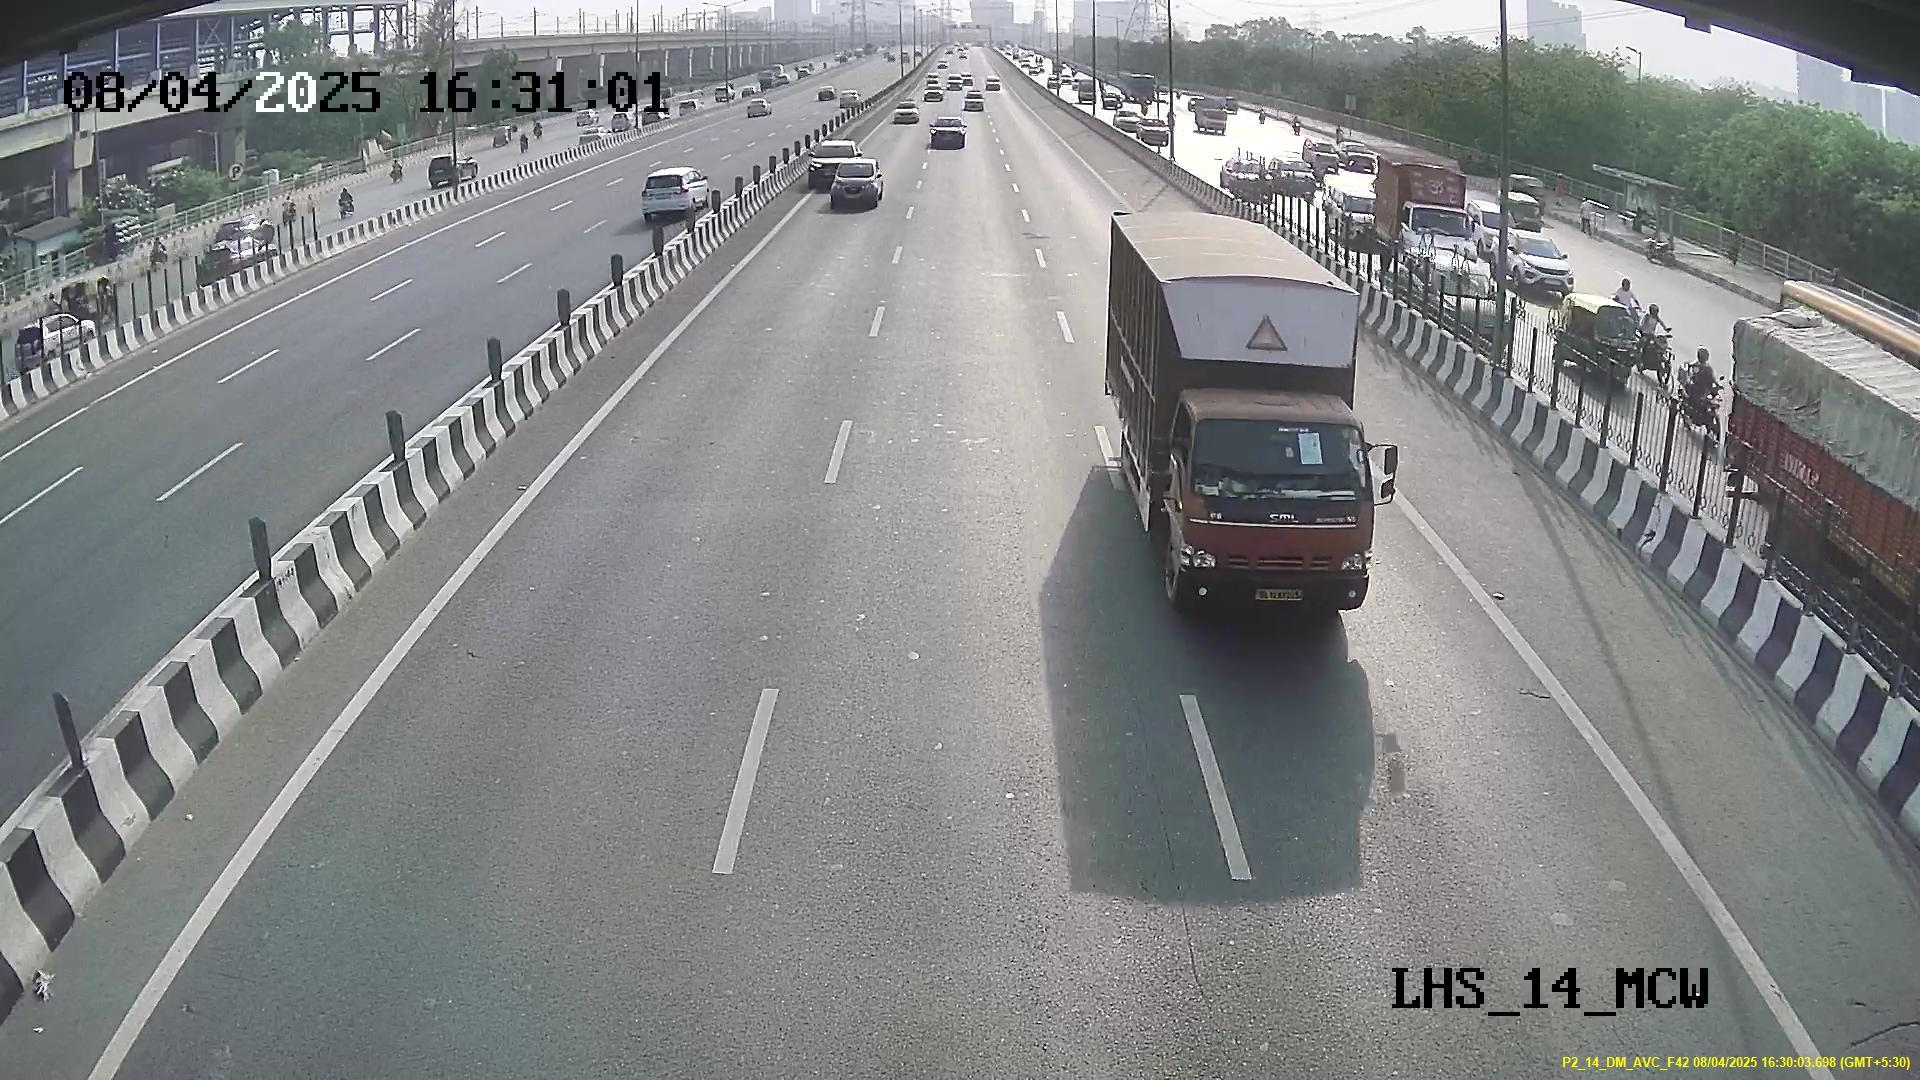lcv: (1163, 394, 1378, 617)
